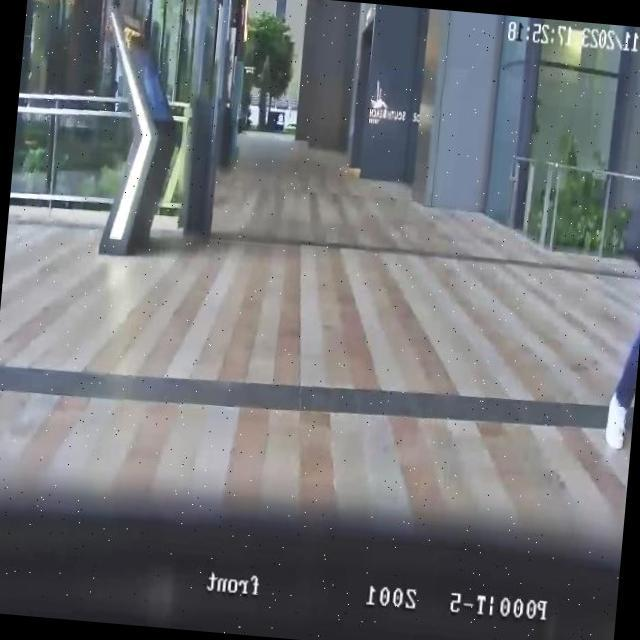person: (603, 68, 640, 452)
